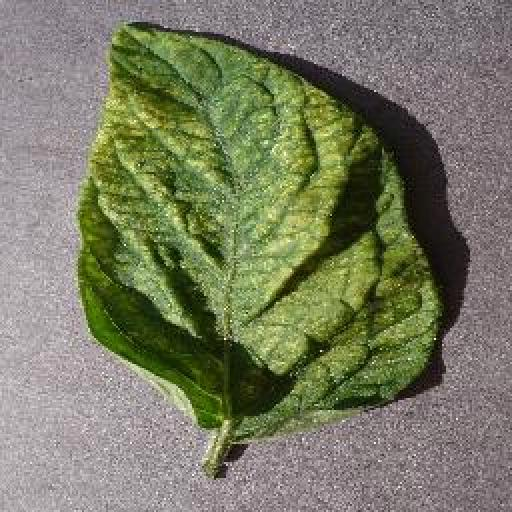disease_tomato: (78, 22, 440, 438)
